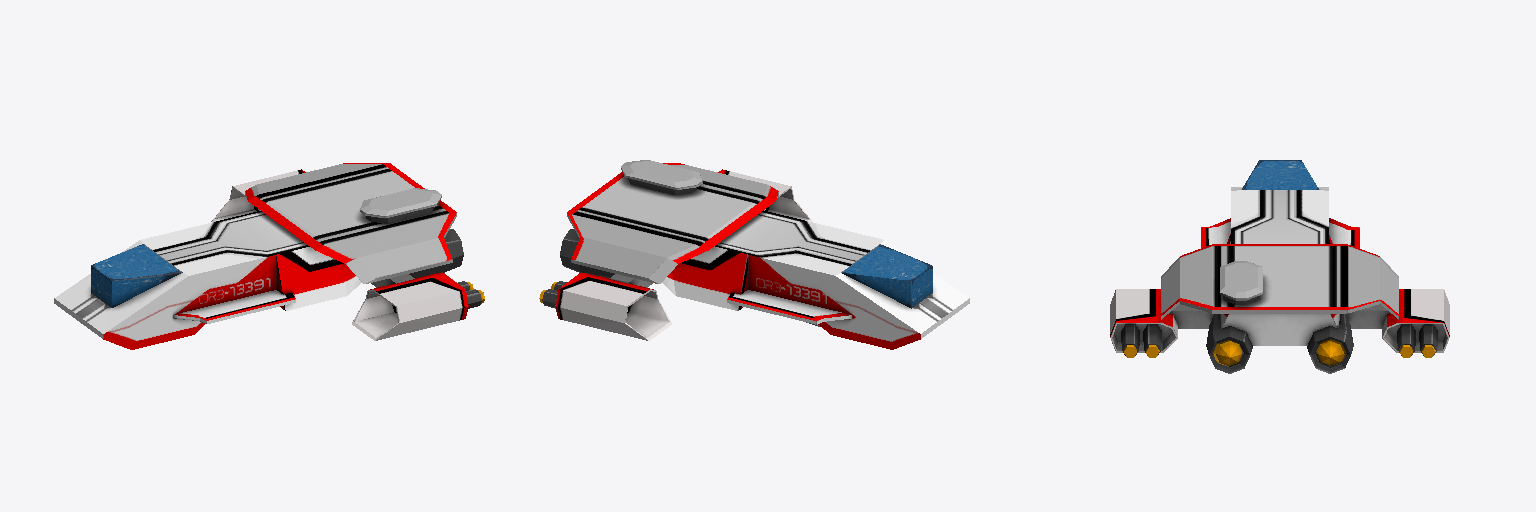
The picture shows the model from 3 angles: view 1: azimuth 30°, elevation 25°; view 2: azimuth 150°, elevation 25°; view 3: azimuth 270°, elevation 25°; orthographic projection.
Visible parts, largest first — view 1: Ingeniero_Cube.002; view 2: Ingeniero_Cube.002; view 3: Ingeniero_Cube.002.
Part boxes in pixels (left/top/right/bottom): Ingeniero_Cube.002: left=54, top=163, right=484, bottom=349; Ingeniero_Cube.002: left=539, top=160, right=969, bottom=349; Ingeniero_Cube.002: left=1110, top=160, right=1449, bottom=373.
Size of the model in its own units: 10.15 by 2.18 by 8.42.
Materials: 1 (1 with a texture image).